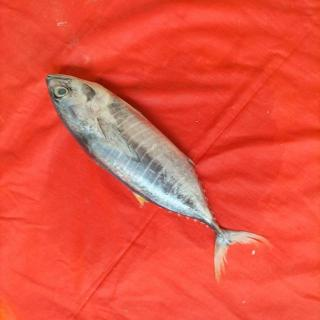Ikan: (35, 67, 267, 288)
